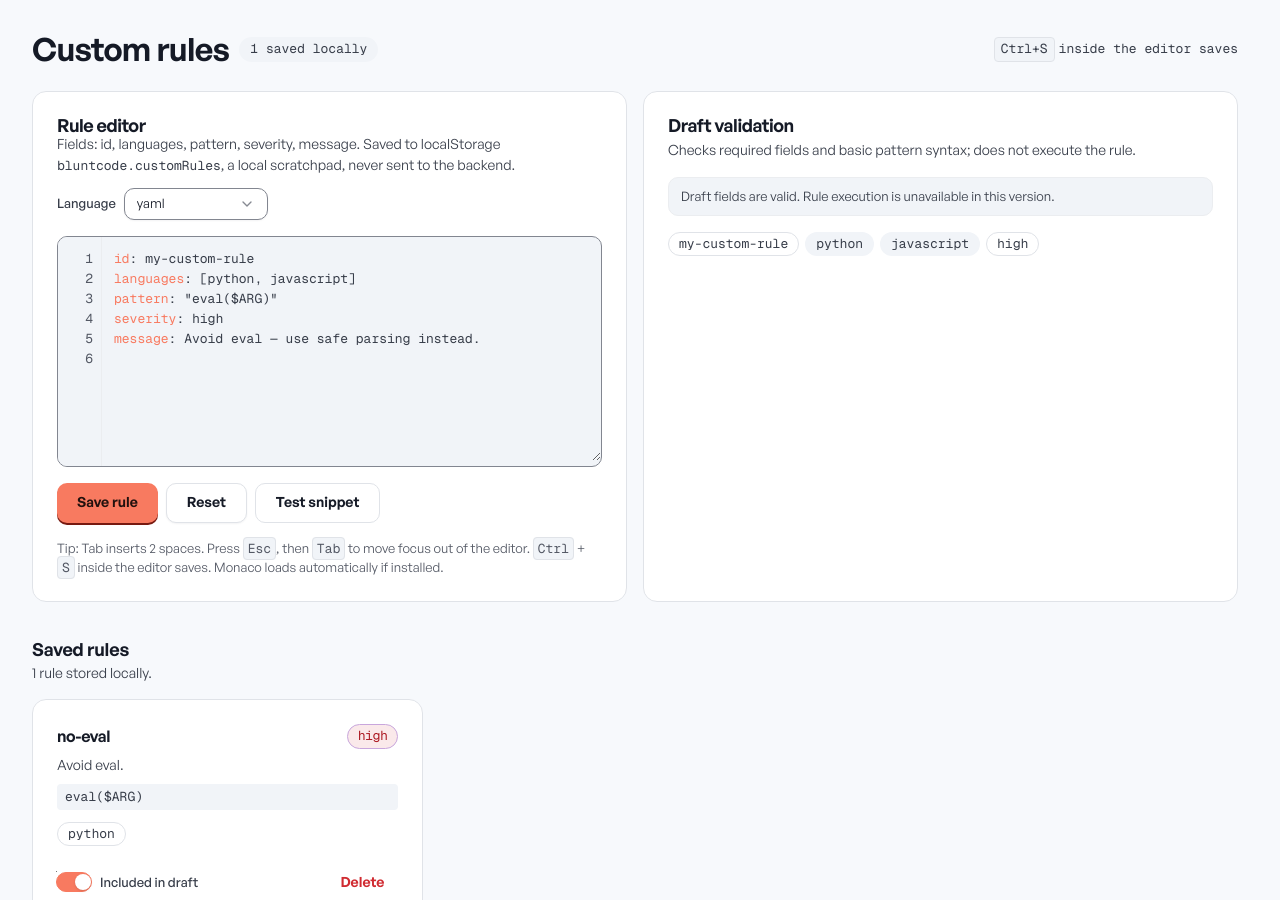
Test: RuleStudioPage delete confirmation › arms a confirmation naming the rule id, and Cancel keeps the rule
Click the button with aria-label "Delete no-eval".
click(362, 883)  # box [326,867,398,899]
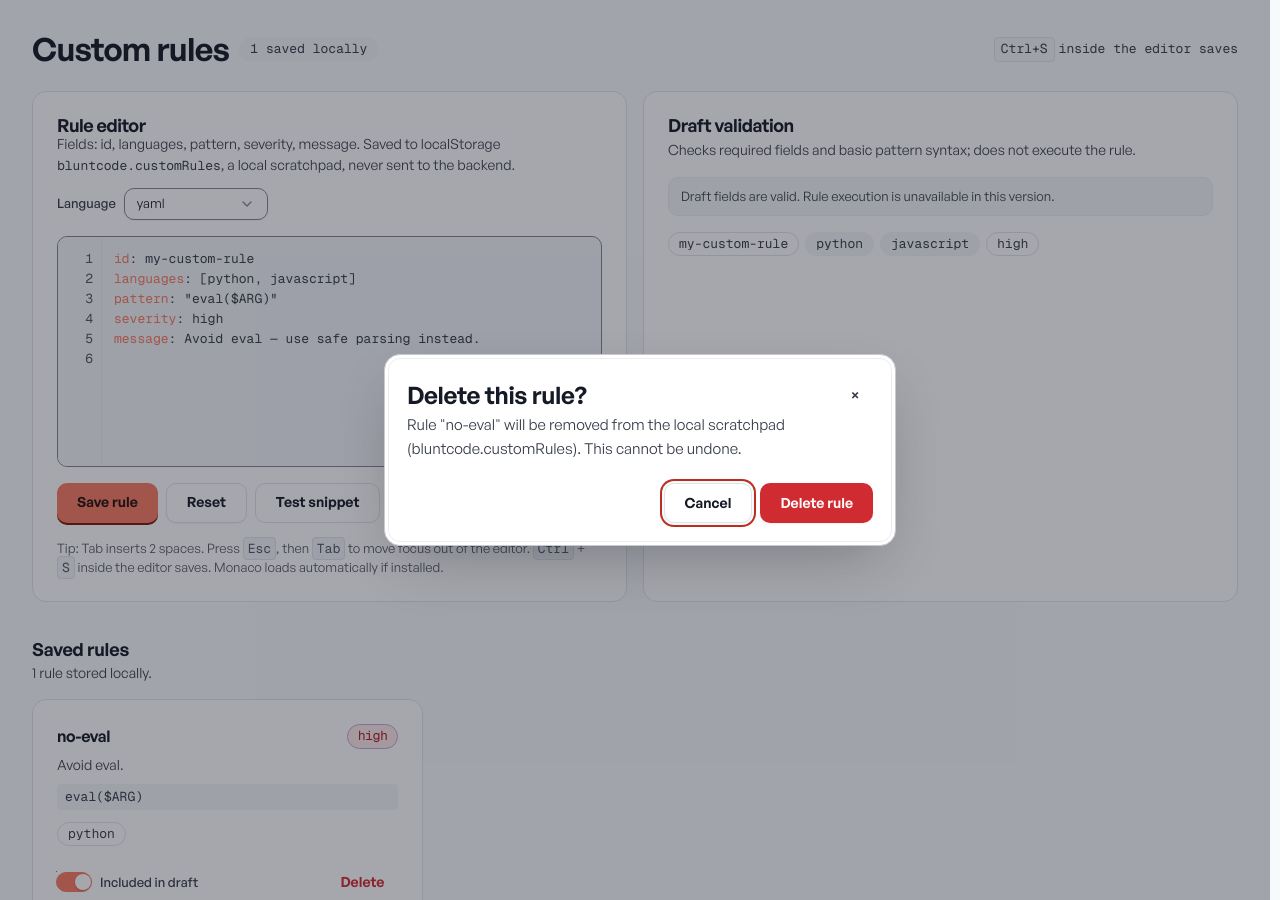
expect the dialog is shown: met, box [384,354,896,546]
expect the dialog shows "no-eval": met, box [407,415,785,458]
Click the button "Cancel".
click(708, 503)  # box [664,483,752,523]
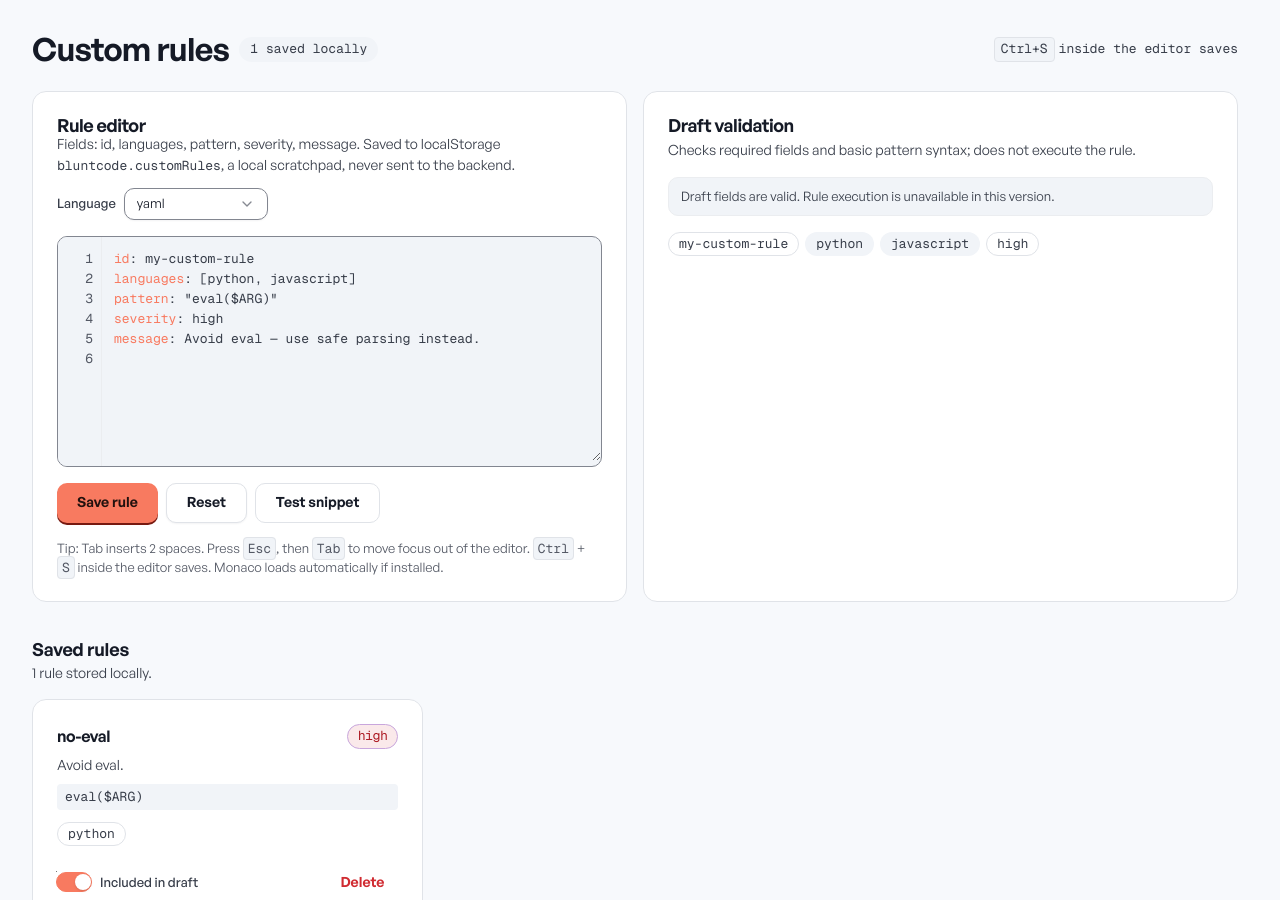
expect the text "no-eval" is shown: met, box [57,724,110,749]
expect the dialog is gone: met
